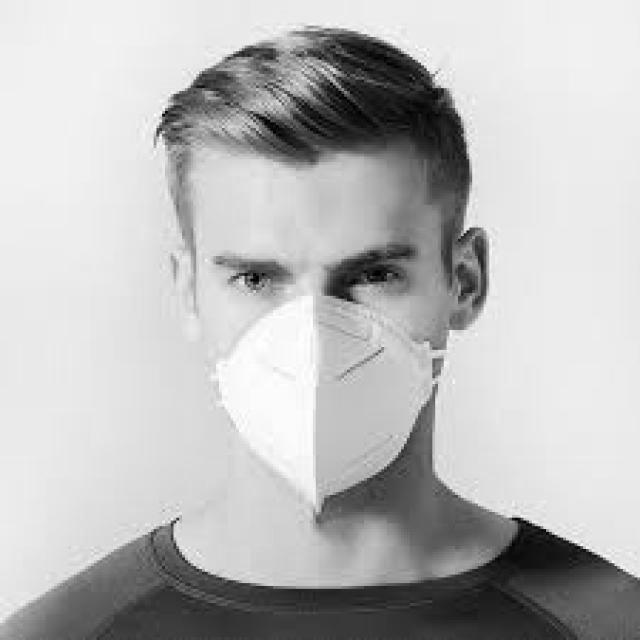fake: (217, 290, 433, 527)
real: (187, 145, 457, 495)
